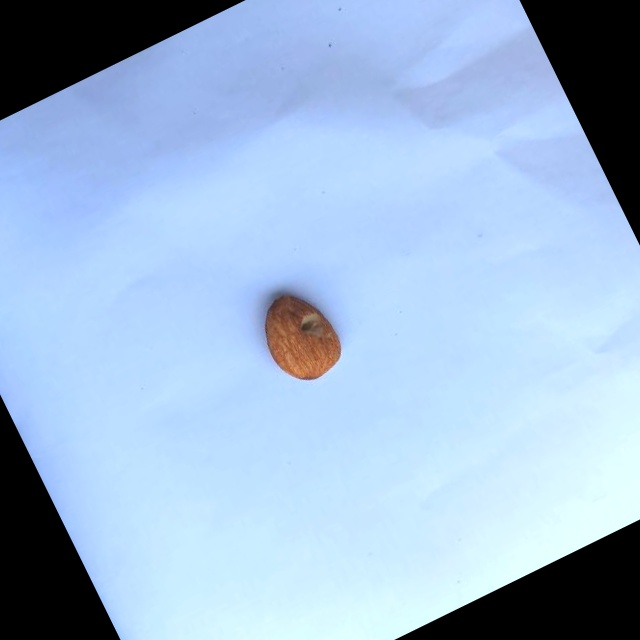grade3: (246, 275, 357, 396)
